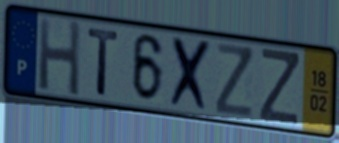6: (129, 32, 165, 105)
H: (37, 15, 83, 100)
T: (86, 26, 122, 99)
X: (167, 34, 215, 116)
Z: (257, 45, 300, 128), (214, 40, 255, 121)
